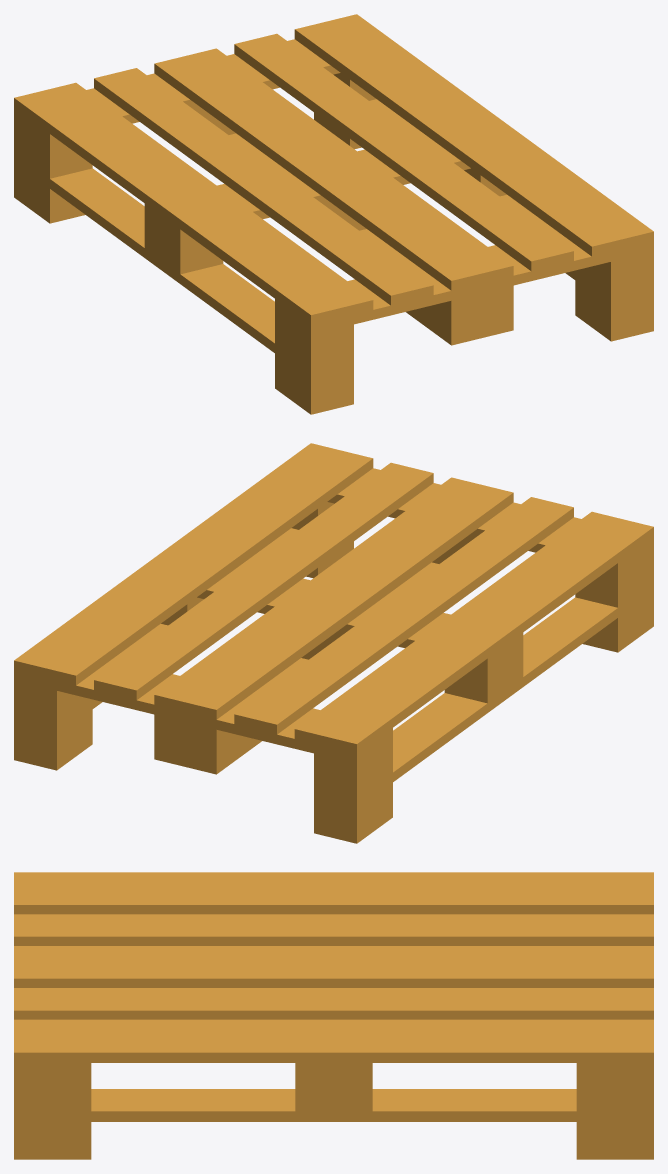
The model's file is podon2BFBX.fbx.
The picture shows the model from 3 angles, top to bottom: view 1: azimuth 30°, elevation 25°; view 2: azimuth 150°, elevation 25°; view 3: azimuth 270°, elevation 25°; orthographic projection. The views are drawn at different scales.
Visible parts, largest first — view 1: podon; view 2: podon; view 3: podon.
Boxes of the visible parts, bbox=[...] form: podon: bbox=[14, 14, 653, 414]; podon: bbox=[14, 443, 653, 843]; podon: bbox=[14, 872, 653, 1159].
Bounding box in the file's own units: 80 × 22.2 × 120.
